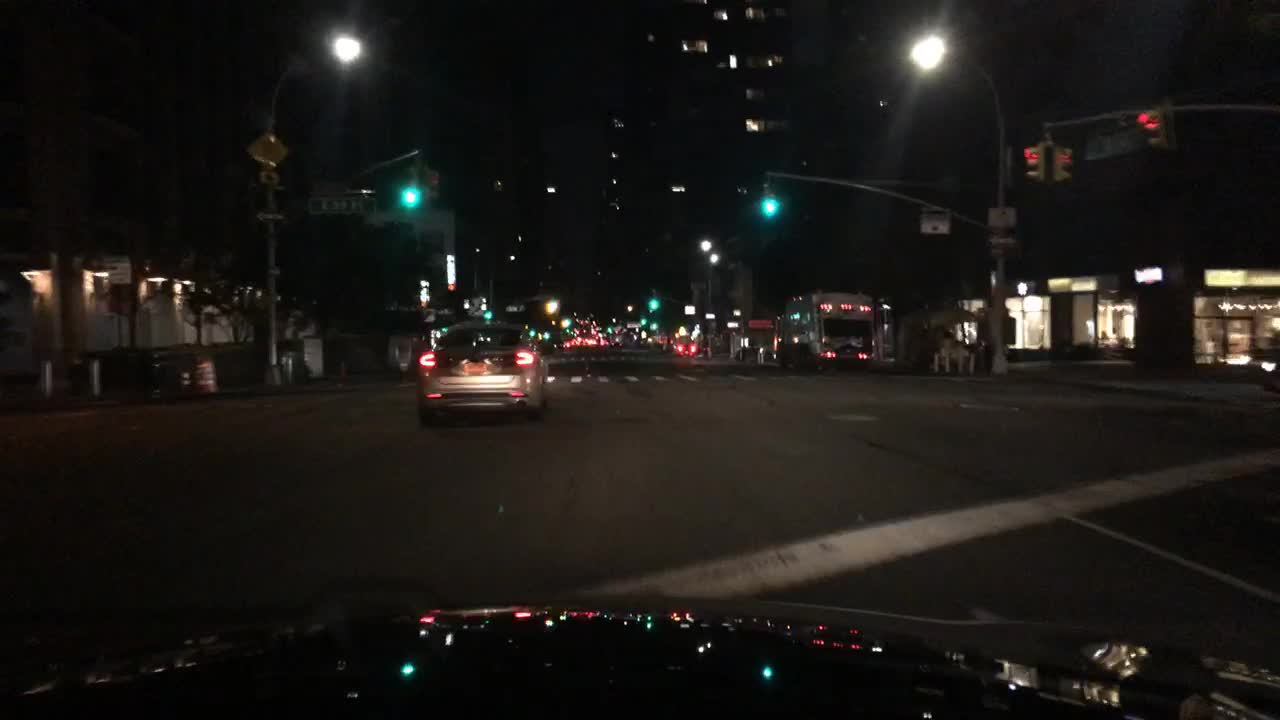car: (410, 318, 555, 429), (1250, 327, 1278, 397), (670, 328, 701, 358), (570, 330, 601, 354), (652, 337, 677, 357), (632, 333, 656, 349), (596, 332, 616, 349)
traffic light: (1135, 103, 1166, 147), (1021, 142, 1045, 184), (401, 163, 421, 206), (1050, 146, 1071, 182), (421, 168, 439, 206), (1013, 280, 1031, 299), (764, 188, 776, 213), (648, 287, 657, 307), (484, 304, 492, 319), (641, 309, 646, 324)
traffic sign: (1083, 127, 1144, 161), (305, 193, 380, 216), (249, 132, 291, 167), (107, 253, 133, 287), (918, 206, 950, 233), (985, 206, 1016, 231), (985, 234, 1020, 249), (257, 212, 284, 222)
truck: (769, 287, 884, 375)
